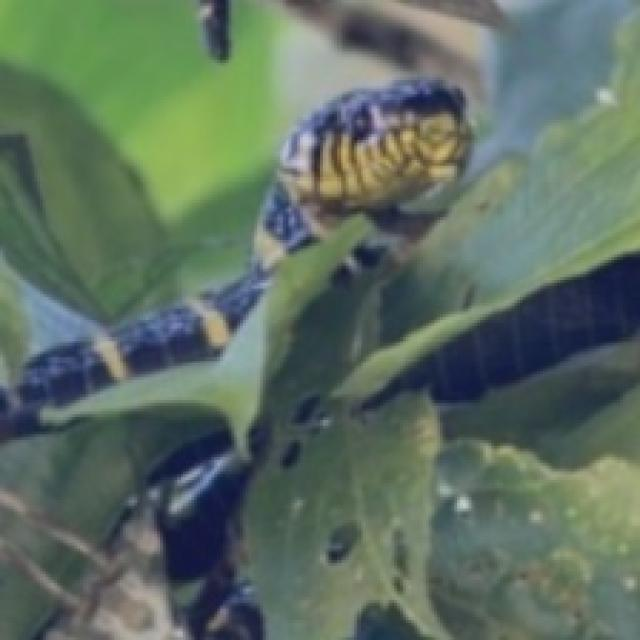mangrove cat snake: (0, 81, 468, 439), (364, 256, 640, 408), (148, 431, 250, 580)
